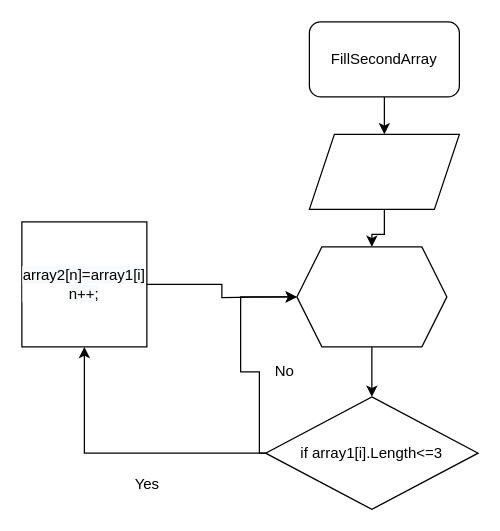
The diagram is 500 pixels wide and 531 high, and some of its shapes have lost their labels. The shapes that lost their labels are listed below. From the top down, each one's box as (x1, y1, x2, y2) in pixels, then its label:
(308, 133, 459, 209): String[] array1 String[] array2 int n=0
(296, 246, 447, 347): for (int i = 0; i < array1.Length; i++)
